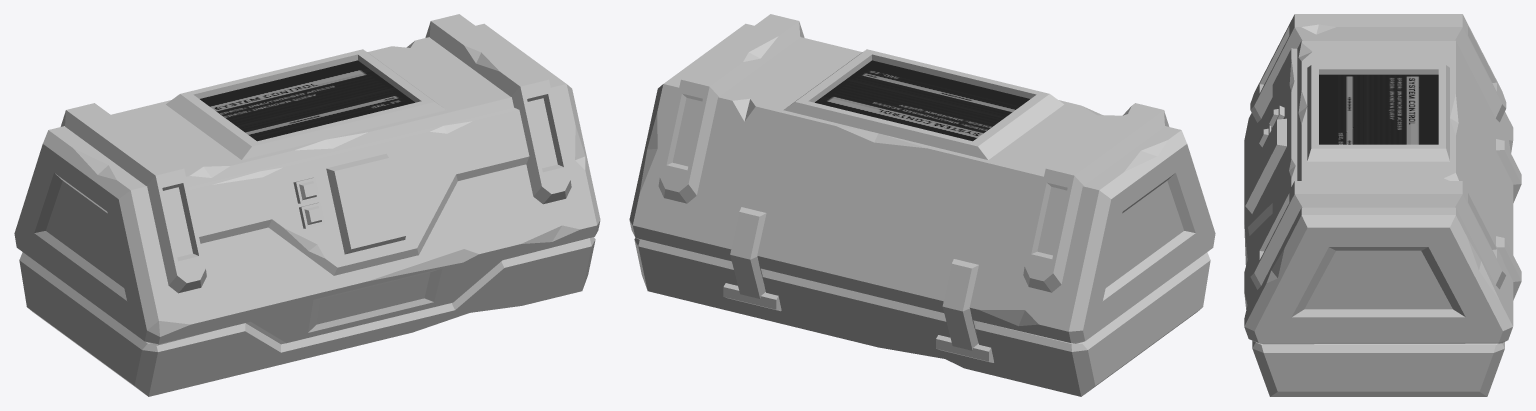
The model's file is SM_Prop_Crate_02.fbx.
The picture shows the model from 3 angles, left to right: view 1: azimuth 30°, elevation 25°; view 2: azimuth 150°, elevation 25°; view 3: azimuth 270°, elevation 25°; orthographic projection. The views are drawn at different scales.
Parts seen in each view (by area): view 1: SM_Prop_Crate_02, SM_Prop_Crate_02_Screen_01; view 2: SM_Prop_Crate_02, SM_Prop_Crate_02_Screen_01; view 3: SM_Prop_Crate_02, SM_Prop_Crate_02_Screen_01.
Part boxes in pixels (x1,y1,x2,y2): SM_Prop_Crate_02: [14, 14, 600, 396]; SM_Prop_Crate_02_Screen_01: [200, 60, 414, 141]; SM_Prop_Crate_02: [629, 14, 1215, 396]; SM_Prop_Crate_02_Screen_01: [815, 60, 1029, 141]; SM_Prop_Crate_02: [1244, 14, 1521, 396]; SM_Prop_Crate_02_Screen_01: [1319, 74, 1438, 144].
Bounding box in the file's own units: 119 × 51.68 × 67.06.
